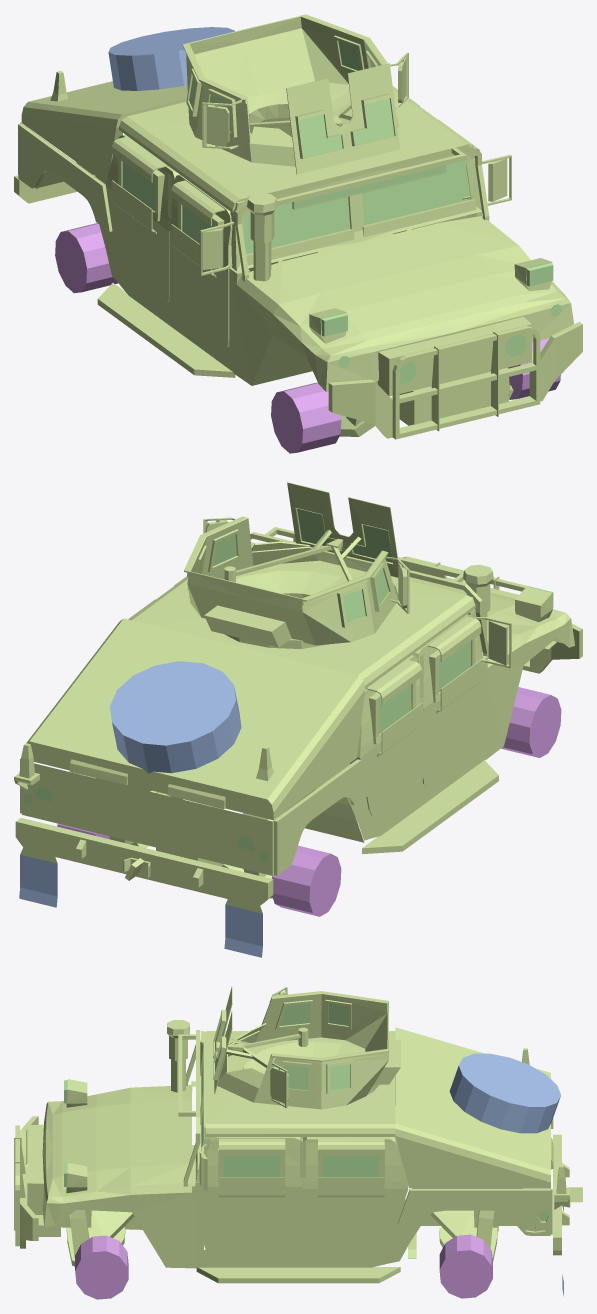
The model's file is land-wheeled-humvee-minigun--wheels-destroyed.glb.
3 renders of one model, top to bottom at view 1: azimuth 30°, elevation 25°; view 2: azimuth 150°, elevation 25°; view 3: azimuth 270°, elevation 25°, orthographic. The views are drawn at different scales.
Visible parts, largest first — view 1: CC_WHL_05_Minigun_01, CC_WHL_05_Turret, CC_WHL_05_Fastback_RearRight_Destroyed_1, CC_WHL_05_Fastback_RearRight_Destroyed_3, CC_WHL_05_Fastback_RearRight_Destroyed_0; view 2: CC_WHL_05_Minigun_01, CC_WHL_05_Turret, CC_WHL_05_Fastback_RearRight_Destroyed_3, CC_WHL_05_Fastback_RearRight_Destroyed_1; view 3: CC_WHL_05_Minigun_01, CC_WHL_05_Turret, CC_WHL_05_Fastback_RearRight_Destroyed_0, CC_WHL_05_Fastback_RearRight_Destroyed_2.
Part boxes in pixels (x1,y1,x2,y2): CC_WHL_05_Minigun_01: (14,27,582,439); CC_WHL_05_Turret: (182,14,408,174); CC_WHL_05_Fastback_RearRight_Destroyed_1: (271,382,341,453); CC_WHL_05_Fastback_RearRight_Destroyed_3: (55,223,117,293); CC_WHL_05_Fastback_RearRight_Destroyed_0: (508,338,560,399); CC_WHL_05_Minigun_01: (14,527,582,957); CC_WHL_05_Turret: (184,482,409,647); CC_WHL_05_Fastback_RearRight_Destroyed_3: (271,845,341,916); CC_WHL_05_Fastback_RearRight_Destroyed_1: (501,687,561,757); CC_WHL_05_Minigun_01: (14,1020,582,1296); CC_WHL_05_Turret: (213,986,400,1109); CC_WHL_05_Fastback_RearRight_Destroyed_0: (75,1235,128,1299); CC_WHL_05_Fastback_RearRight_Destroyed_2: (439,1234,492,1298).
Bounding box in the file's own units: 3.07 × 2.73 × 5.84.
